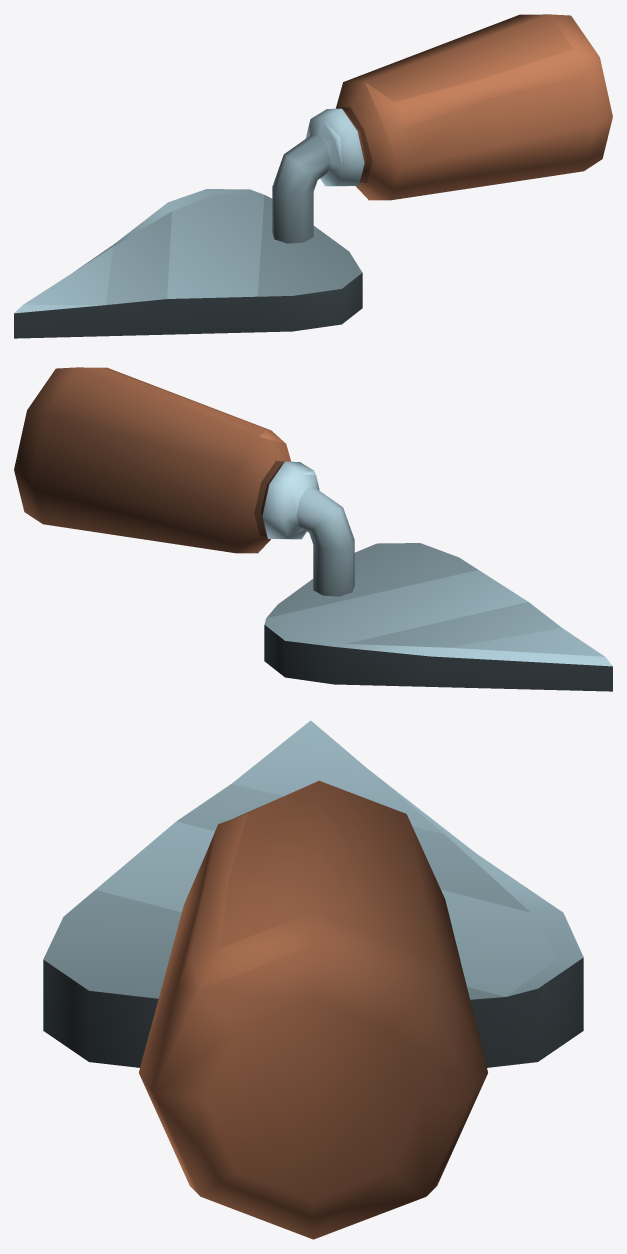
File: tool.glb
3 views of the same model, one above another, from view 1: azimuth 30°, elevation 25°; view 2: azimuth 150°, elevation 25°; view 3: azimuth 270°, elevation 25° (orthographic). The views are drawn at different scales.
Parts seen in each view (by area): view 1: tool; view 2: tool; view 3: tool.
Boxes of the visible parts, x1=… form: tool: x1=14, y1=14, x2=612, y2=338; tool: x1=14, y1=367, x2=612, y2=691; tool: x1=43, y1=720, x2=583, y2=1239.
Size of the model in its own units: 0.4396 by 0.1428 by 0.1808.
1 material, 1 textured.
